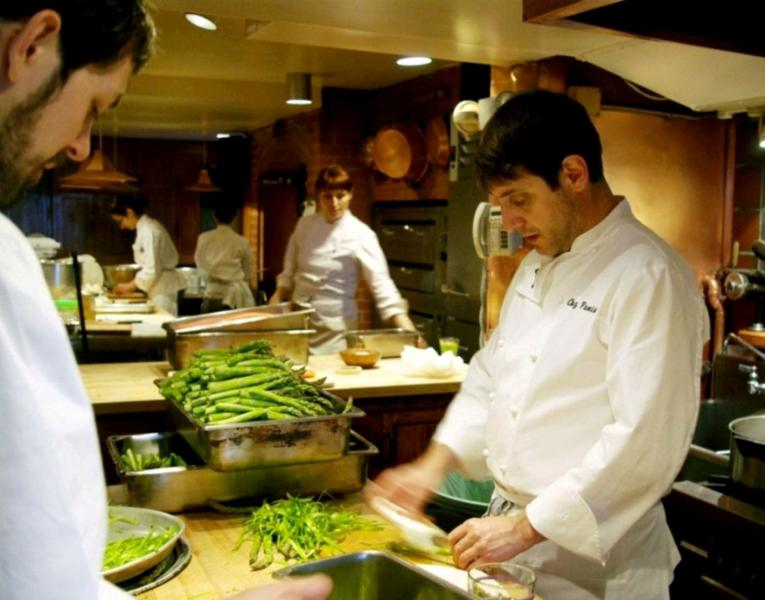person: (369, 87, 705, 598)
